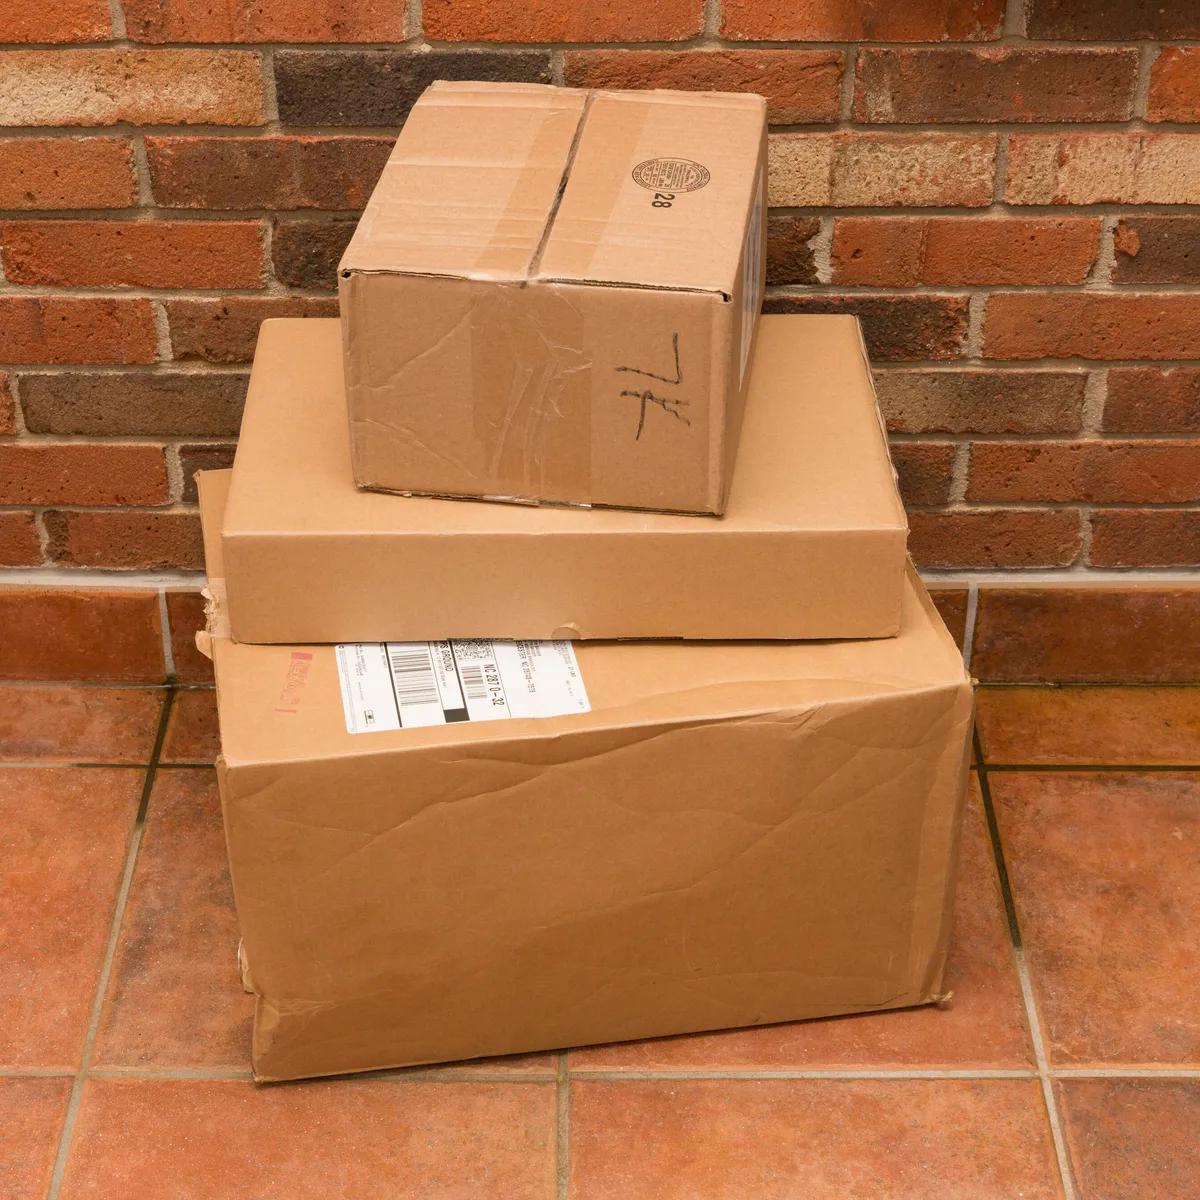cardboard: (204, 540, 975, 1082), (225, 64, 910, 644)
